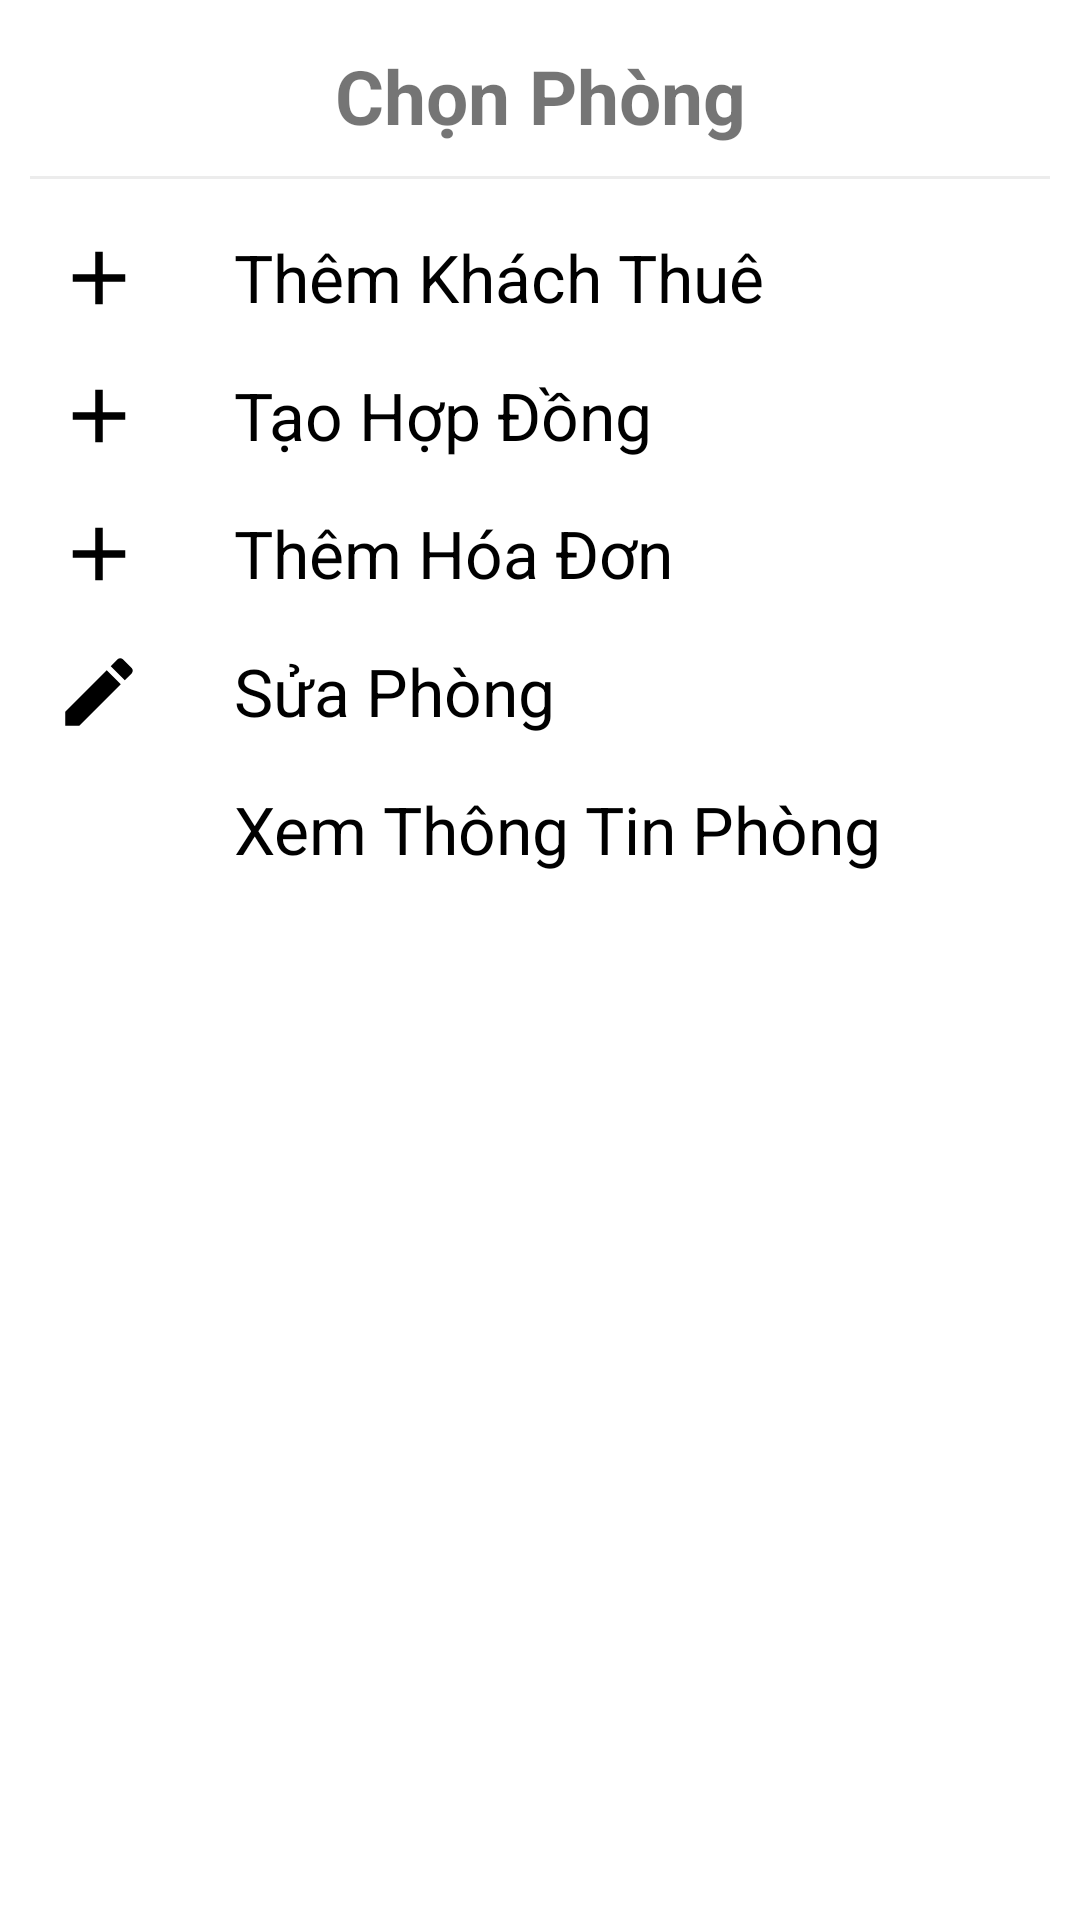

Named icons in this screenshot (1080 × 1920) and their centers, [x,y]:
add: [99,278], [99,416], [99,554]
update: [99,692]
